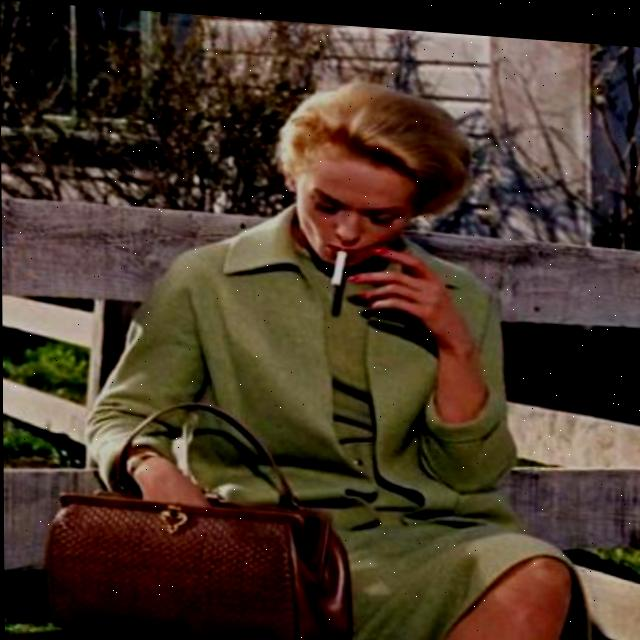cigarette: (330, 242, 349, 286)
